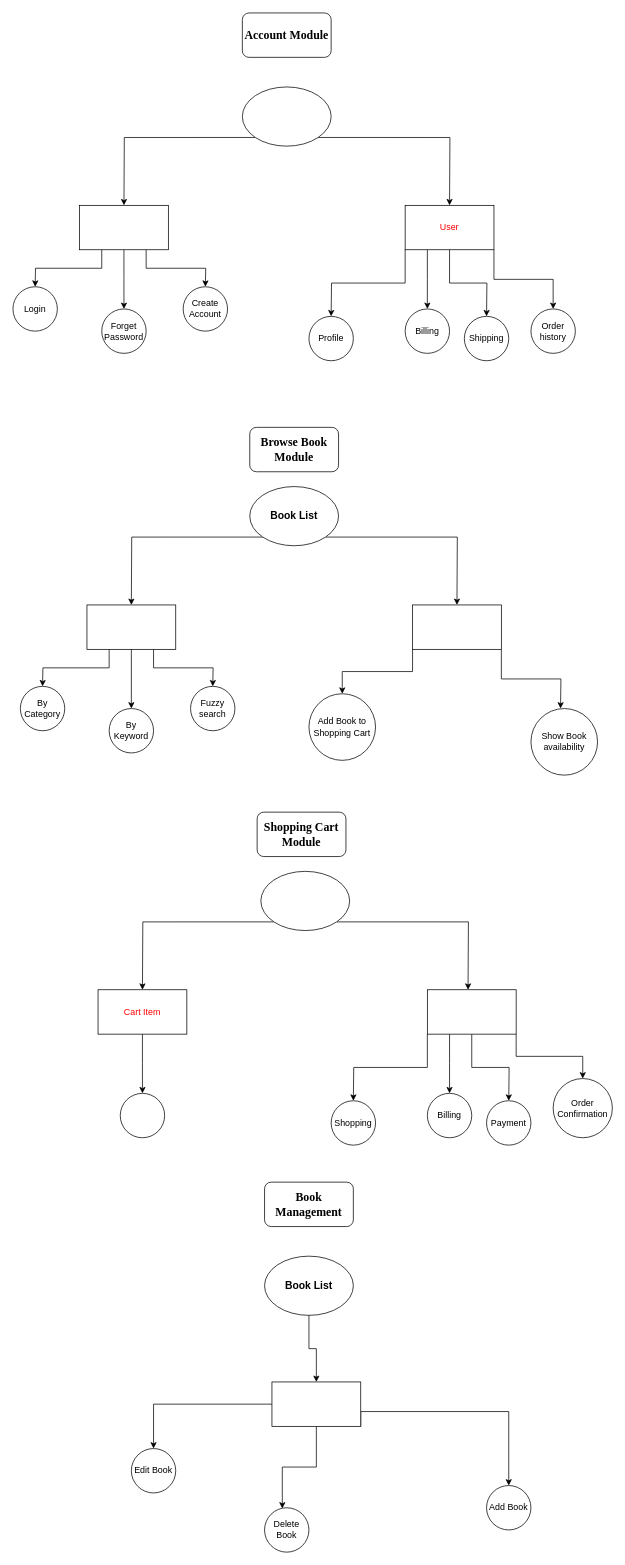
Some shapes in this 625 by 1565 pixel diagram are drawn without their labels. The shapes that lost their labels are listed below. From the top down, each one's centre as x and y in pixels, then its label:
pixel 286 116: my Account
pixel 123 227: Guest
pixel 131 626: Search
pixel 456 626: View Book Details
pixel 305 901: Shopping Cart
pixel 471 1011: Checkout
pixel 142 1115: Modify Cart Item
pixel 316 1403: Book
